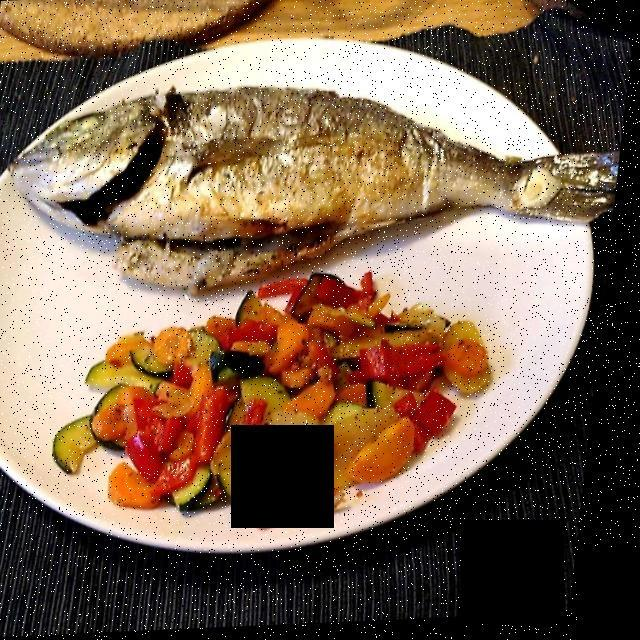fish: (33, 90, 603, 288)
ratatouille: (78, 281, 479, 505)
